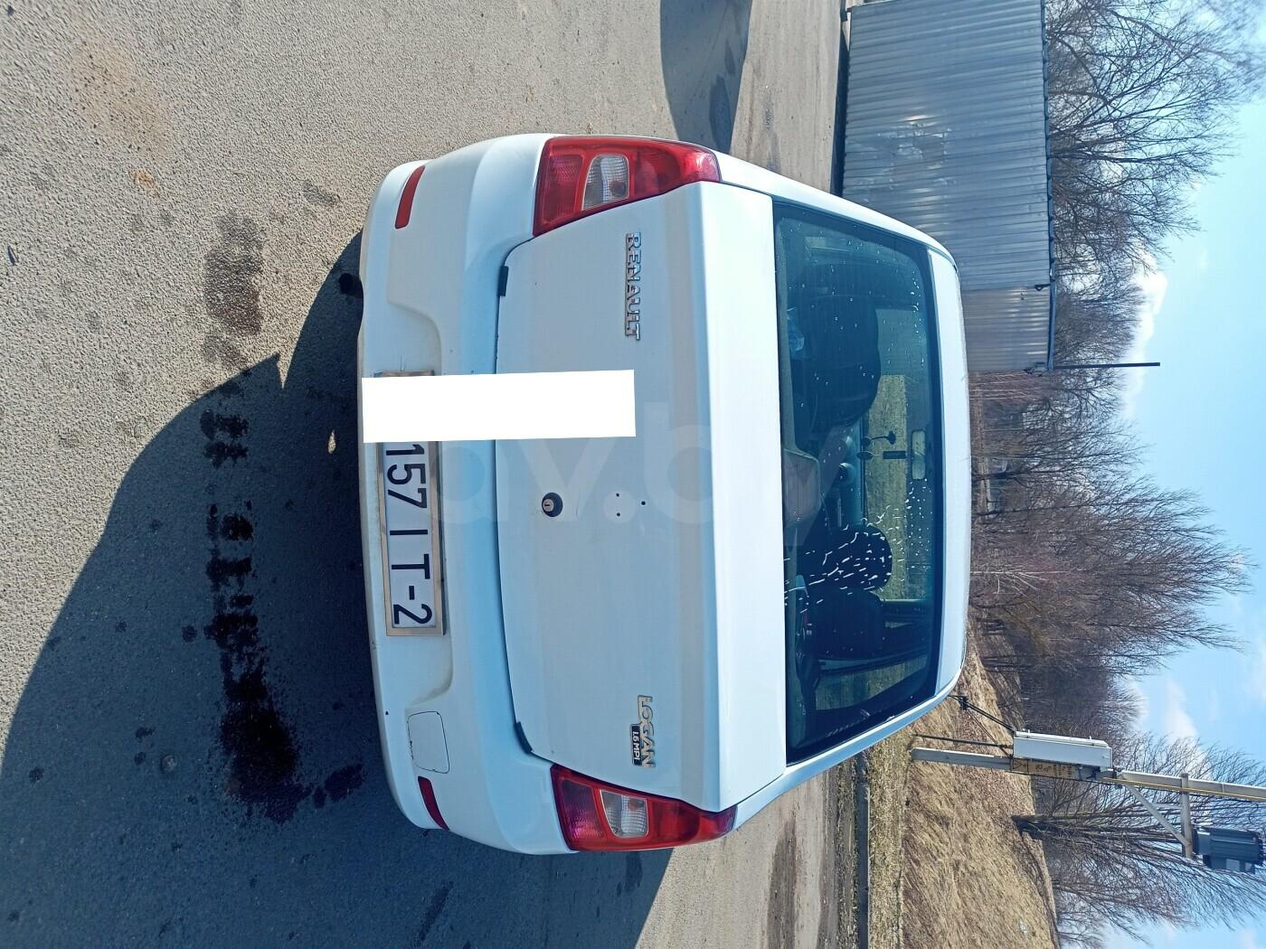Logan_2008-2015: (340, 124, 984, 882)
